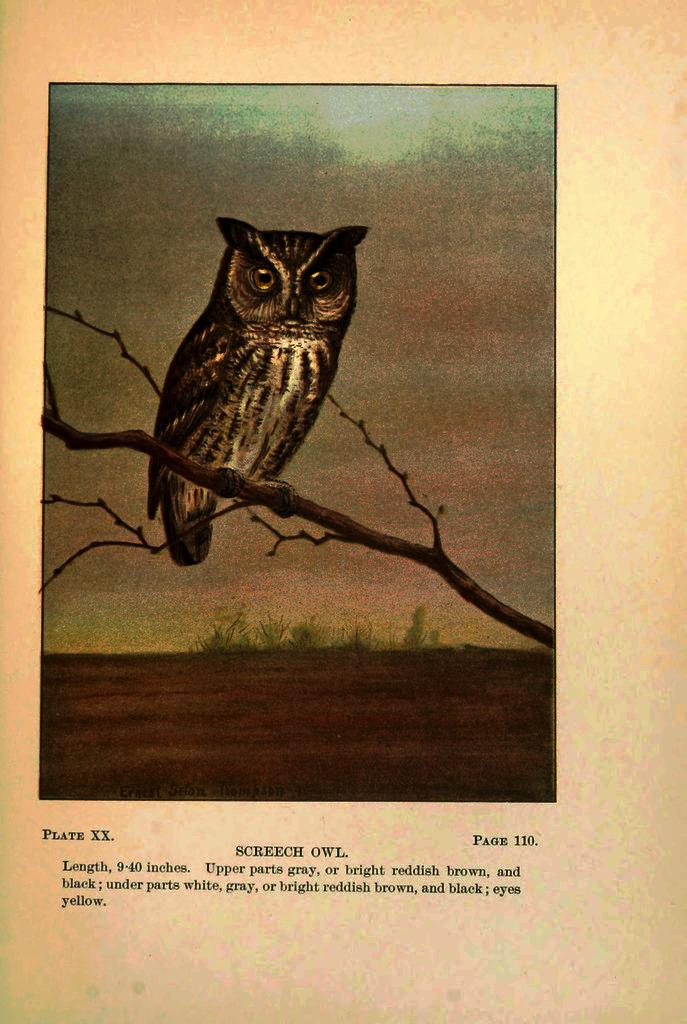Owl: (146, 214, 378, 578)
